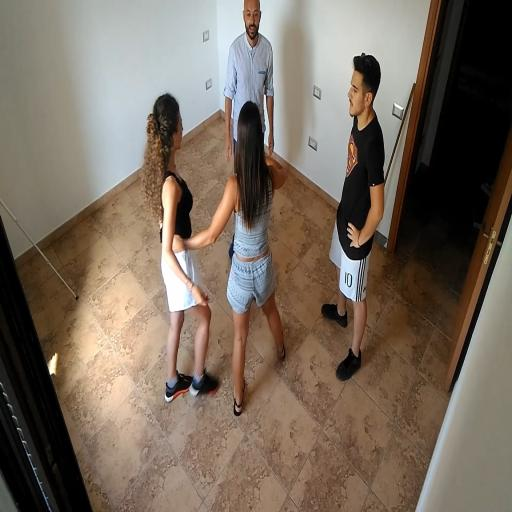nao-violencia: (112, 84, 309, 424)
